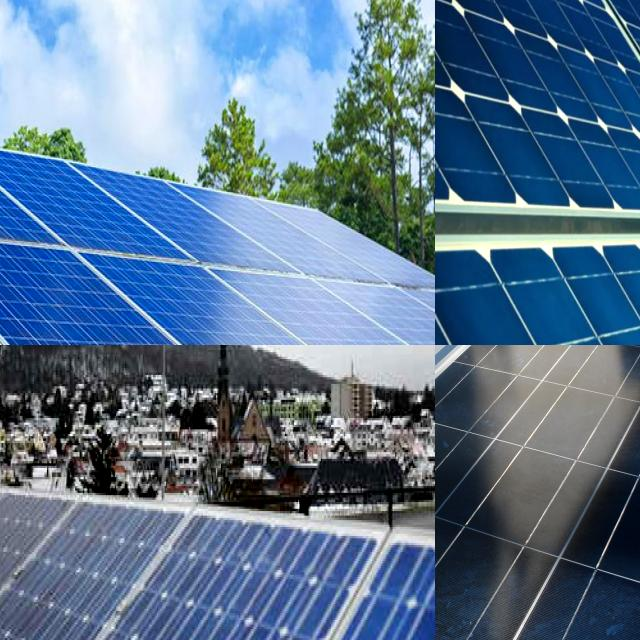crack: (435, 345, 640, 640), (435, 0, 640, 225), (60, 146, 303, 296), (71, 234, 370, 345), (0, 119, 198, 285), (0, 217, 253, 345), (435, 229, 640, 345), (199, 254, 435, 345), (0, 116, 115, 269)
panel: (0, 547, 51, 640)
